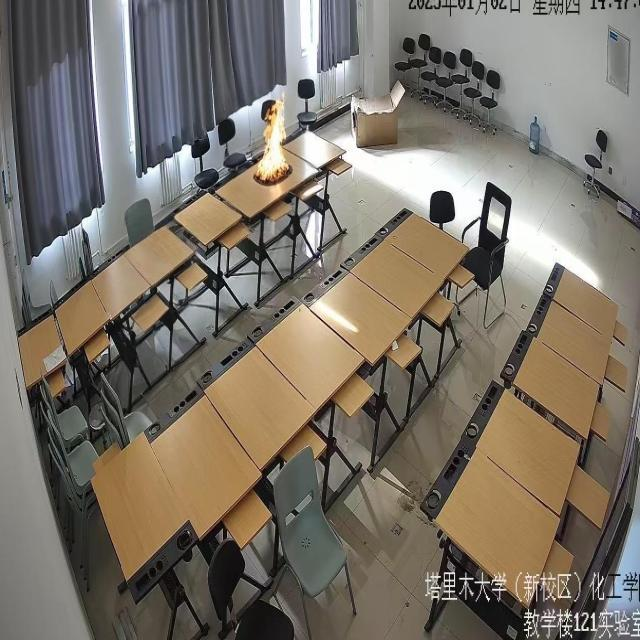smoke: (256, 91, 289, 180)
